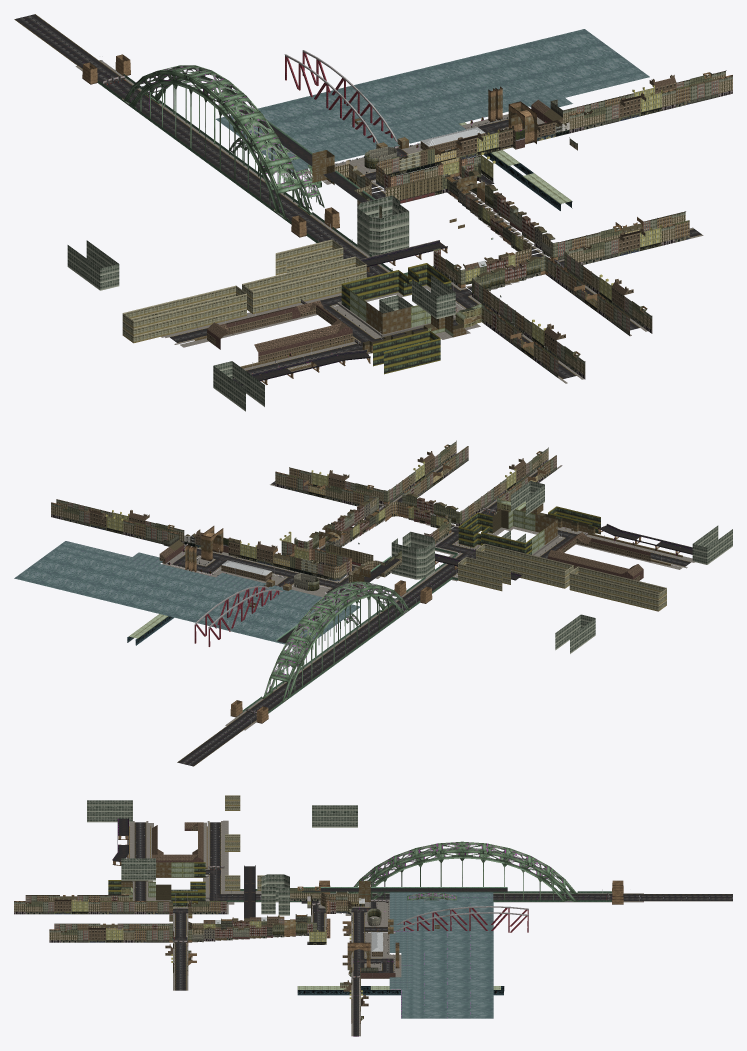
Rendered from CREDITS_LEVELMODEL.obj.
3 renders of one model, top to bottom at view 1: azimuth 30°, elevation 25°; view 2: azimuth 150°, elevation 25°; view 3: azimuth 270°, elevation 25°, orthographic. The views are drawn at different scales.
Parts seen in each view (by area): view 1: reg12, reg17, reg11, reg18, reg7, reg13; view 2: reg12, reg17, reg11, reg18, reg7, reg13; view 3: reg12, reg17, reg18, reg11, reg7, reg13.
Boxes of the visible parts, bbox=[...] form: reg12: bbox=[101, 50, 591, 275]; reg17: bbox=[242, 205, 703, 383]; reg11: bbox=[499, 29, 732, 129]; reg18: bbox=[122, 285, 329, 411]; reg7: bbox=[14, 14, 130, 85]; reg13: bbox=[67, 240, 119, 290]; reg12: bbox=[81, 515, 510, 715]; reg17: bbox=[270, 440, 640, 588]; reg11: bbox=[14, 499, 174, 594]; reg18: bbox=[569, 525, 732, 611]; reg7: bbox=[177, 700, 268, 766]; reg13: bbox=[555, 614, 595, 653]; reg12: bbox=[249, 841, 612, 995]; reg17: bbox=[14, 836, 261, 990]; reg18: bbox=[87, 795, 240, 857]; reg11: bbox=[343, 972, 493, 1036]; reg7: bbox=[606, 880, 732, 904]; reg13: bbox=[312, 805, 357, 827].
Bounding box in the file's own units: 35.59 × 4.79 × 45.78.
